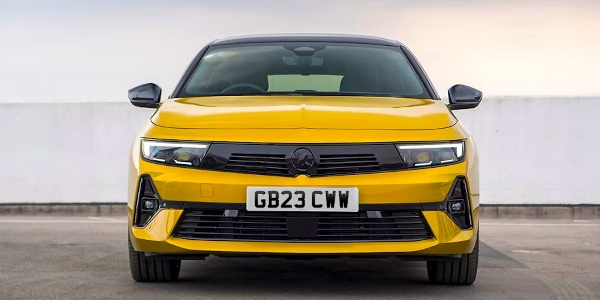licence: (246, 185, 362, 212)
